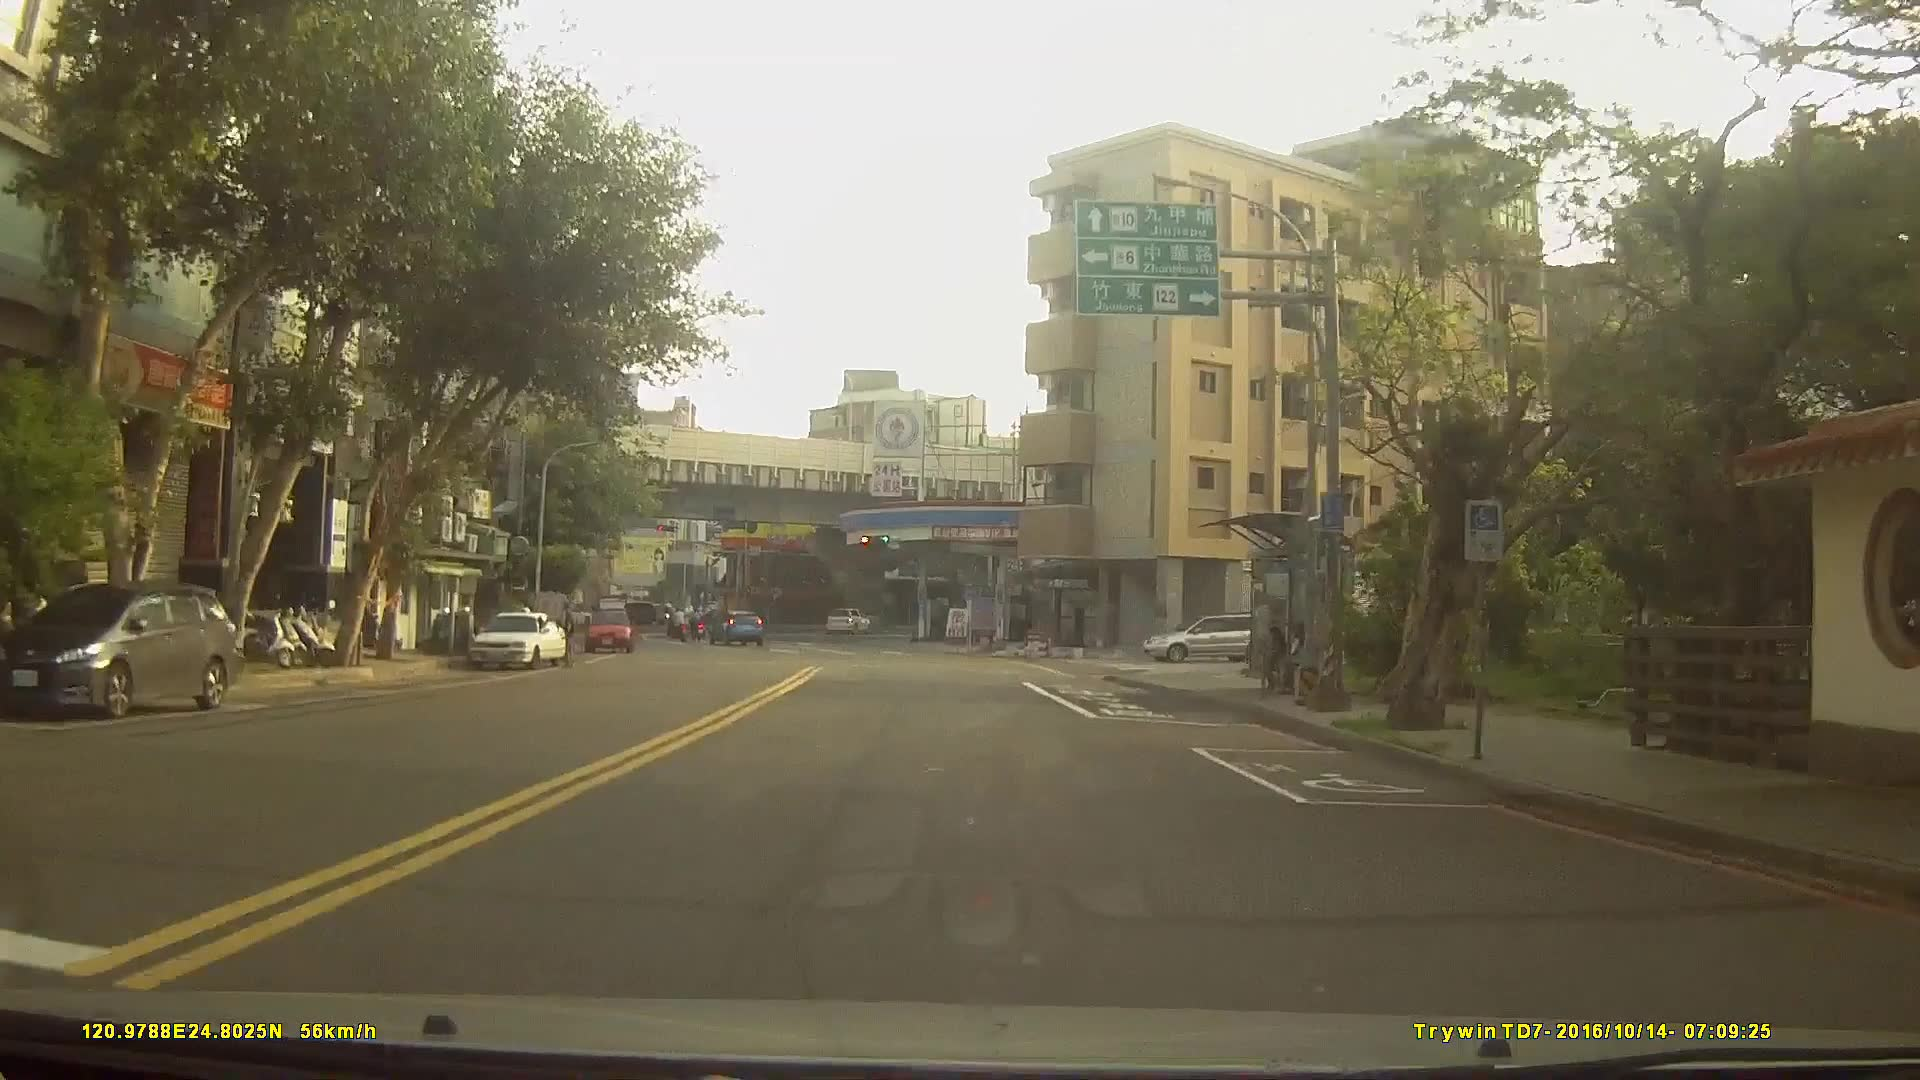pedestrian: (1288, 619, 1314, 705)
rider: (666, 608, 689, 647)
vehicle: (0, 581, 242, 719), (1140, 612, 1271, 663), (469, 611, 569, 670), (584, 605, 632, 653), (707, 609, 763, 648), (825, 608, 869, 636)
